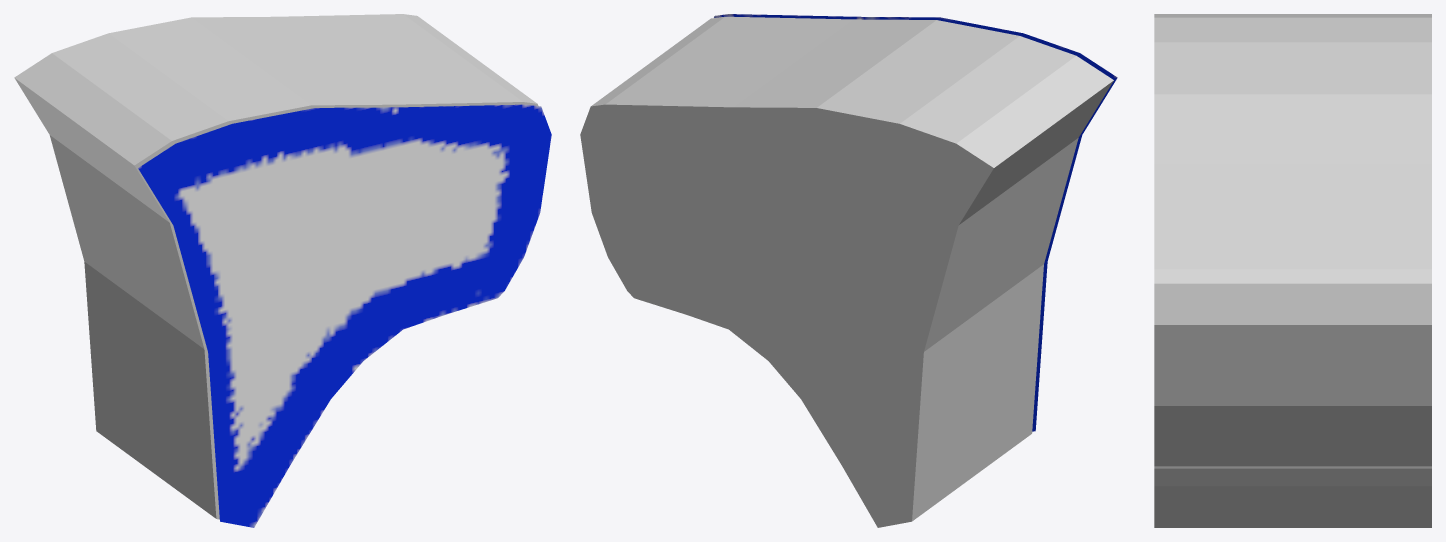
The picture shows the model from 3 angles, left to right: view 1: azimuth 30°, elevation 25°; view 2: azimuth 150°, elevation 25°; view 3: azimuth 270°, elevation 25°; orthographic projection. The views are drawn at different scales.
Visible parts, largest first — view 1: In_4_1, In_4_0; view 2: In_4_0, In_4_1; view 3: In_4_0.
Part boxes in pixels (box(x1,y1,x2,y2)): In_4_1: box(138, 104, 551, 527); In_4_0: box(14, 14, 538, 519); In_4_0: box(580, 16, 1113, 527); In_4_1: box(714, 14, 1117, 431); In_4_0: box(1154, 14, 1431, 527).
Bounding box in the file's own units: 0.9942 × 0.9402 × 0.515.
Materials: 2 (1 with a texture image).
